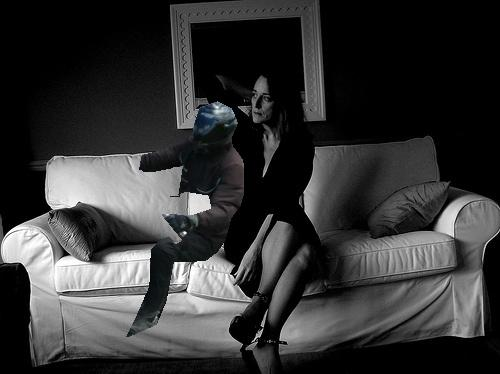tampered: (127, 102, 244, 337)
